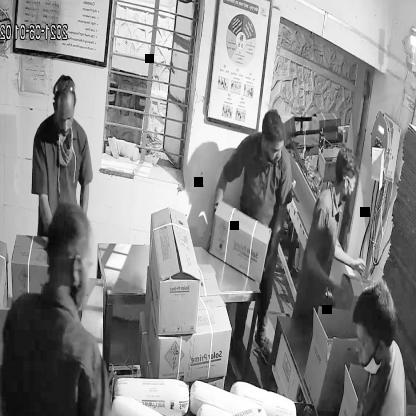no_goggles: (49, 105, 82, 130)
